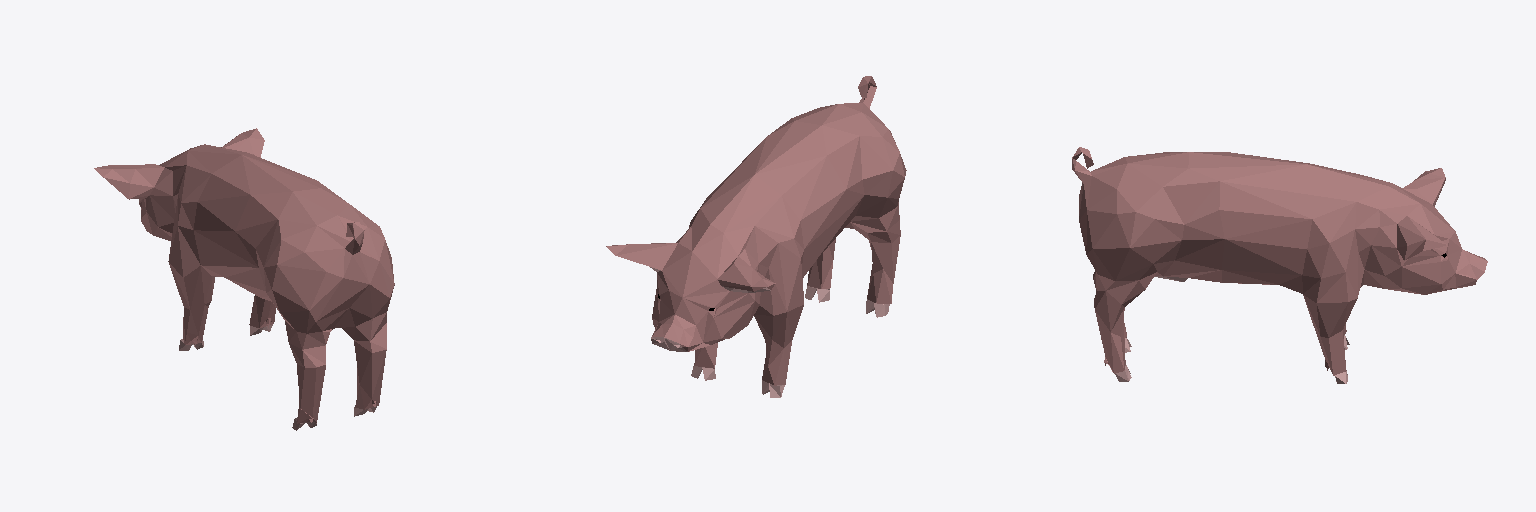
Rendered from pig.obj.
3 renders of one model, left to right at view 1: azimuth 30°, elevation 25°; view 2: azimuth 150°, elevation 25°; view 3: azimuth 270°, elevation 25°, orthographic.
Visible parts, largest first — view 1: pig_pig_Material.001; view 2: pig_pig_Material.001, pig_pig_feet; view 3: pig_pig_Material.001.
Boxes of the visible parts, box(x1,y1,x2,y2) form: pig_pig_Material.001: box(94, 128, 394, 423); pig_pig_Material.001: box(606, 76, 906, 385); pig_pig_feet: box(650, 267, 889, 397); pig_pig_Material.001: box(1072, 147, 1487, 375).
Size of the model in its own units: 0.5347 by 0.6744 by 1.18.